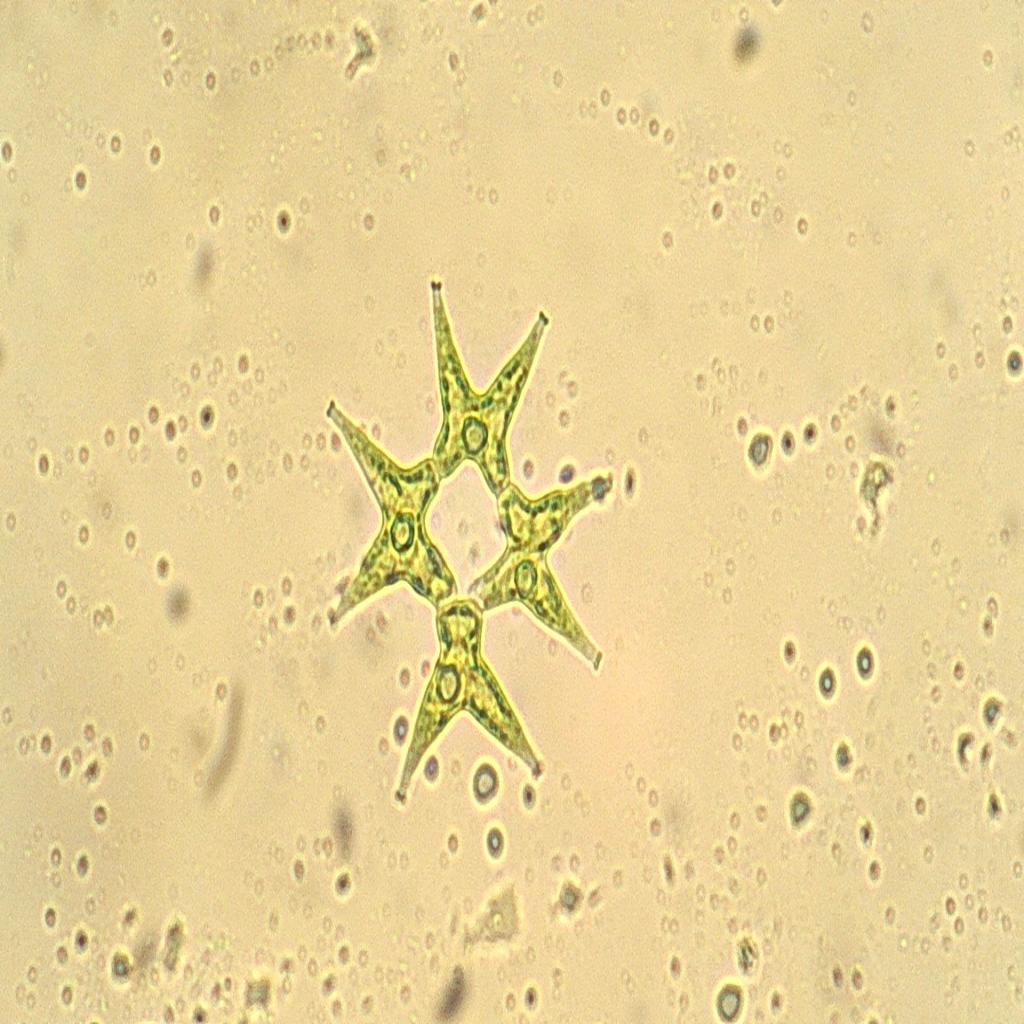Pediastrum_CT: (322, 260, 611, 802)
